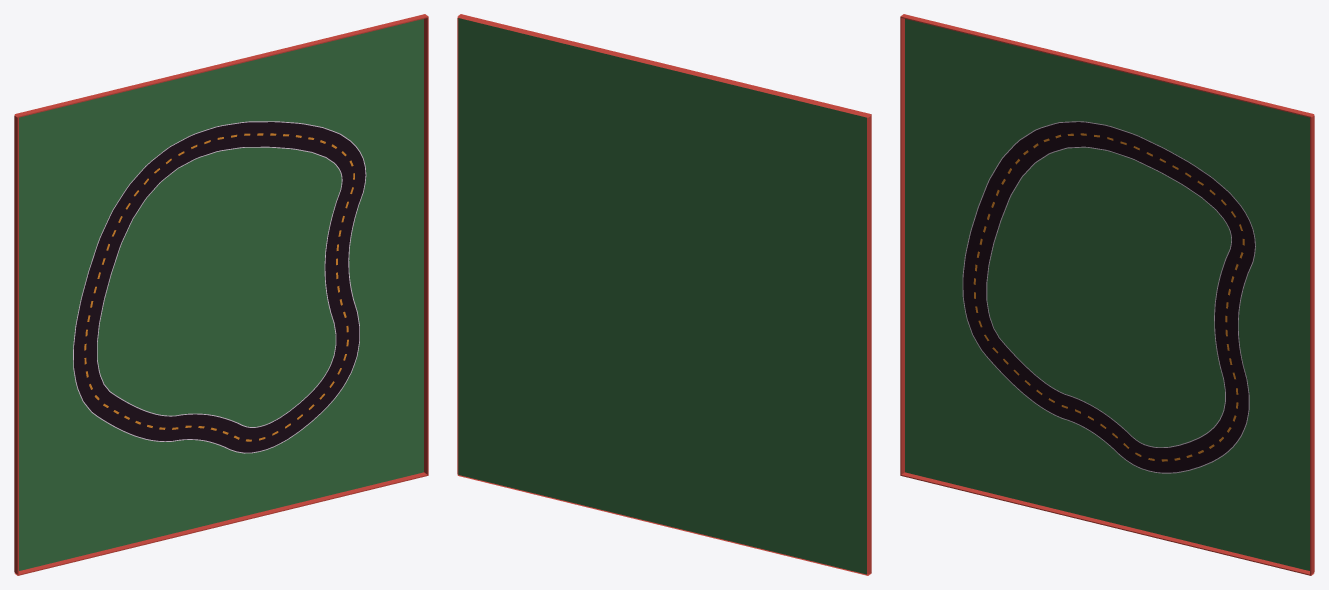
File: track.obj
3 renders of one model, left to right at view 1: azimuth 30°, elevation 25°; view 2: azimuth 150°, elevation 25°; view 3: azimuth 330°, elevation 25°, orthographic.
Bounding box in the file's own units: 20.04 × 21.4 × 0.3.
Materials: 5 (5 with a texture image).
